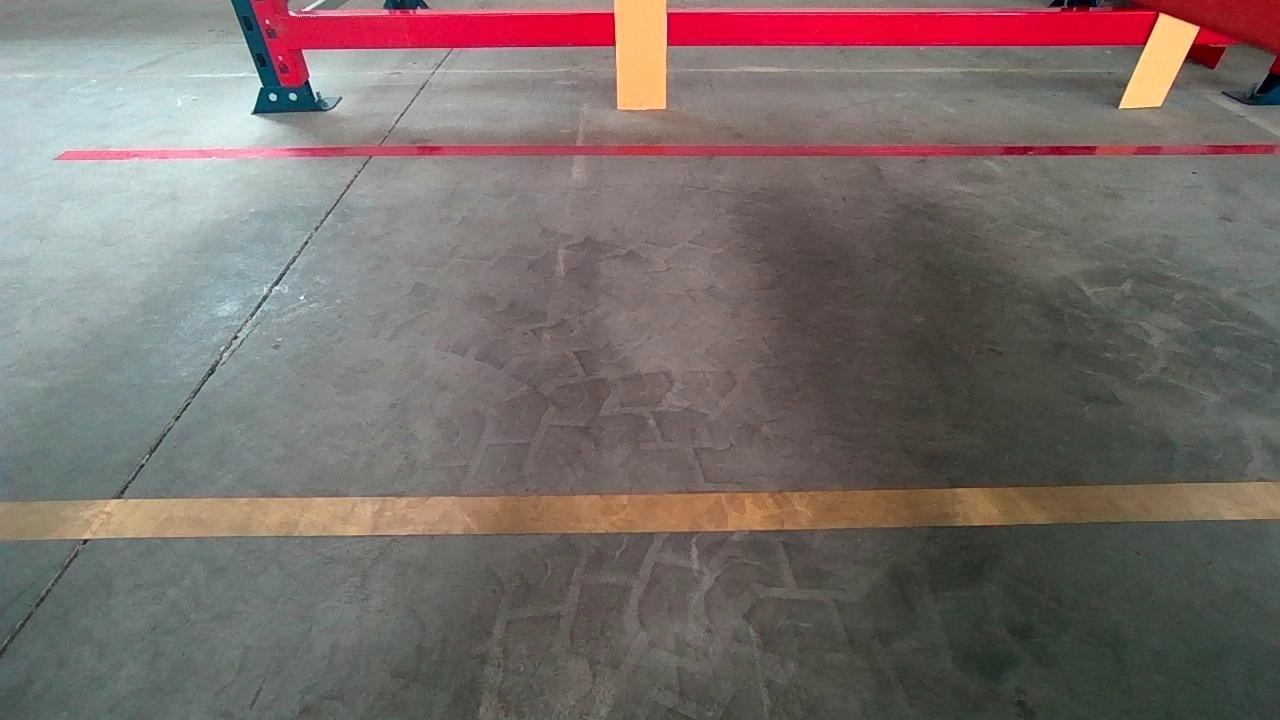h_rack: (291, 17, 1244, 46)
orange_strip: (1119, 13, 1202, 104), (616, 0, 668, 106)
red_line: (50, 141, 1280, 158)
yellow_line: (9, 479, 1271, 546)
